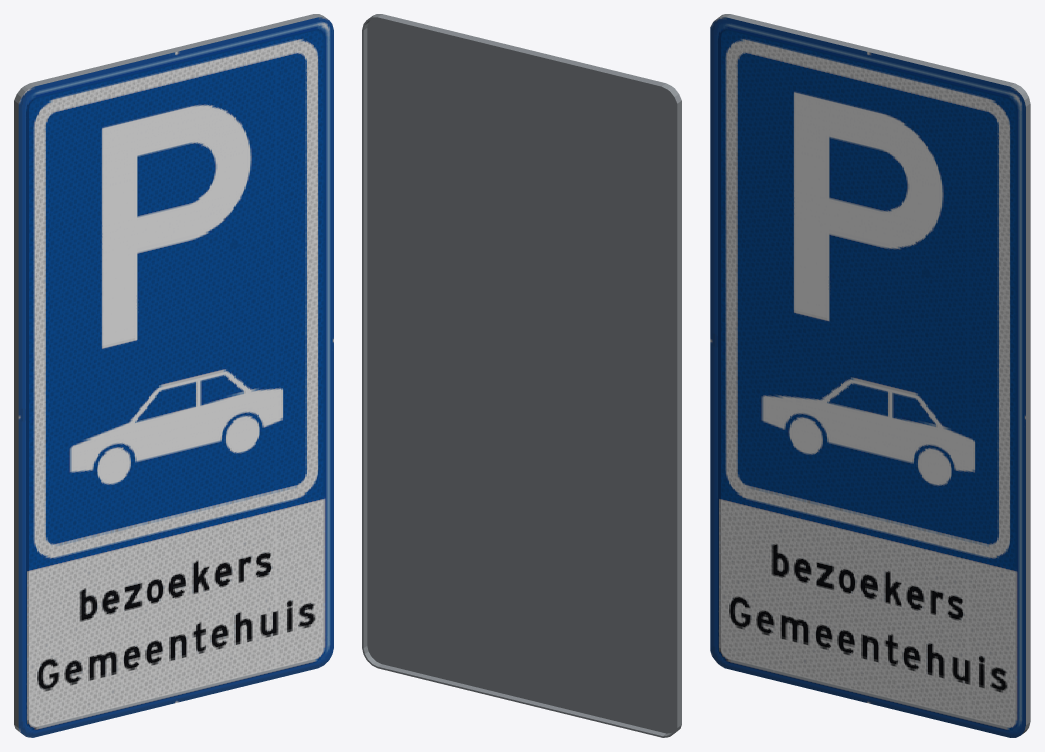
The picture shows the model from 3 angles, left to right: view 1: azimuth 30°, elevation 25°; view 2: azimuth 150°, elevation 25°; view 3: azimuth 330°, elevation 25°; orthographic projection.
Parts seen in each view (by area): view 1: cat_fbfe359bb4ae843a; view 2: cat_fbfe359bb4ae843a; view 3: cat_fbfe359bb4ae843a.
Part boxes in pixels (x1,y1,x2,y2): cat_fbfe359bb4ae843a: [14, 14, 333, 737]; cat_fbfe359bb4ae843a: [362, 14, 681, 737]; cat_fbfe359bb4ae843a: [710, 14, 1030, 737].
Bounding box in the file's own units: 0.6 × 0.015 × 1.18.
Materials: 2 (1 with a texture image).
